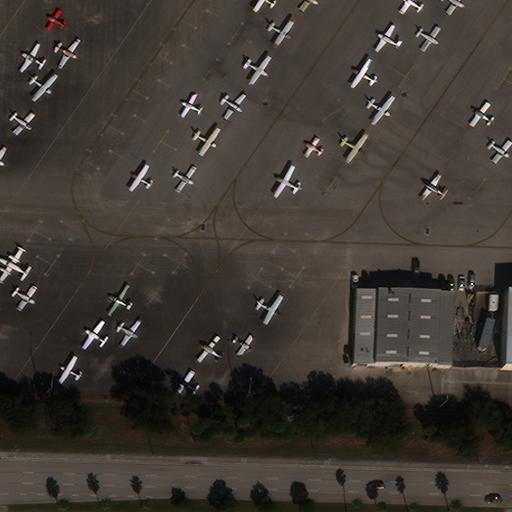Small Civil Transport: (272, 164, 300, 196), (256, 297, 284, 325), (0, 249, 27, 278), (193, 129, 221, 156), (341, 136, 369, 163), (367, 98, 395, 125), (30, 76, 59, 102), (245, 58, 272, 85), (18, 42, 44, 70), (55, 41, 81, 69), (106, 284, 131, 312), (350, 58, 375, 86), (374, 24, 400, 50), (118, 320, 143, 347), (81, 319, 105, 347), (196, 334, 221, 359), (57, 354, 80, 381), (420, 173, 445, 197), (128, 163, 151, 189), (222, 96, 246, 120), (417, 28, 441, 52), (173, 369, 196, 394), (269, 22, 294, 45), (174, 168, 197, 192), (468, 101, 492, 124), (11, 114, 35, 136), (14, 289, 37, 311), (489, 142, 511, 164), (180, 93, 201, 115), (234, 338, 254, 356), (45, 9, 64, 27), (303, 136, 322, 154), (444, 0, 465, 16), (398, 0, 421, 11), (298, 0, 319, 12), (251, 0, 274, 9)
